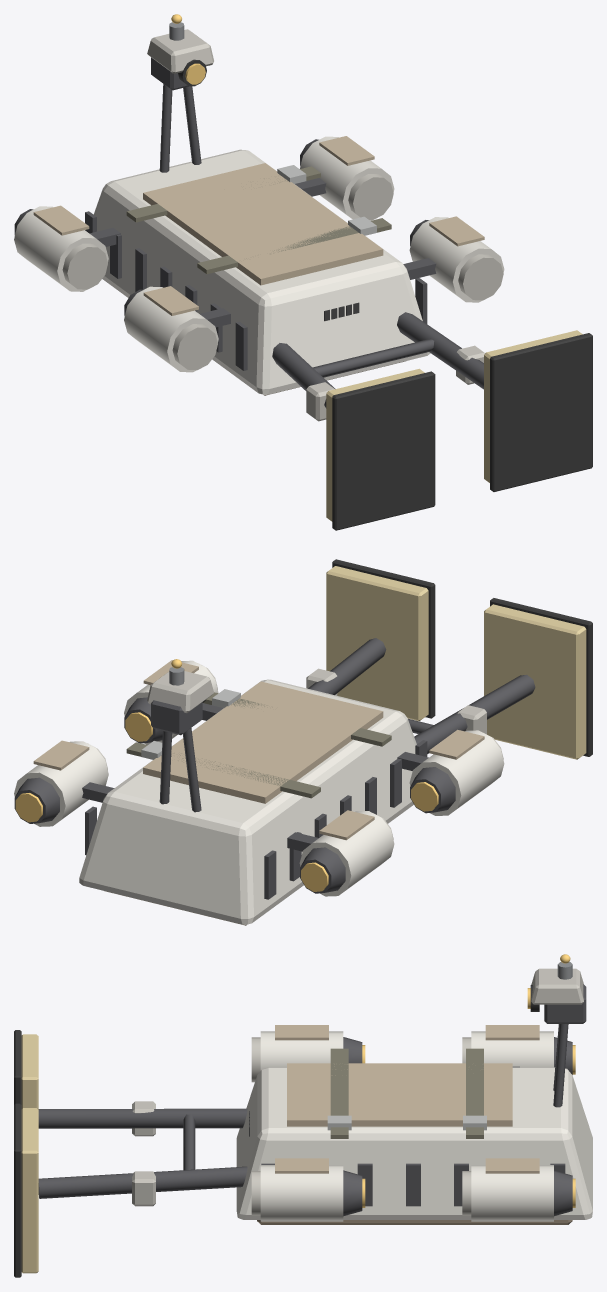
File: drover.glb
The picture shows the model from 3 angles, top to bottom: view 1: azimuth 30°, elevation 25°; view 2: azimuth 150°, elevation 25°; view 3: azimuth 270°, elevation 25°; orthographic projection. The views are drawn at different scales.
Visible parts, largest first — view 1: ring_enamel, ring_dust, ring_rubber.001, ring_rubber, ring_enamel.004, ring_enamel.003, ring_enamel.001, ring_enamel.002, ring_graphite.014, ring_enamel_dk.002, ring_enamel_dk.003, ring_enamel_dk.006 (+15 smaller); view 2: ring_enamel, ring_dust, ring_plough.001, ring_plough, ring_enamel.004, ring_enamel.003, ring_enamel.002, ring_graphite.015, ring_rubber, ring_enamel_dk.002, ring_rubber.001, ring_graphite.014 (+20 smaller); view 3: ring_enamel, ring_dust, ring_enamel.001, ring_enamel.002, ring_graphite.015, ring_graphite.014, ring_plough, ring_enamel.004, ring_enamel.003, ring_enamel_dk.002, ring_strap.001, ring_strap (+20 smaller).
Boxes of the visible parts, x1,y1,x2,y2 form: ring_enamel: [93, 149, 430, 394]; ring_dust: [143, 163, 383, 285]; ring_rubber.001: [332, 371, 435, 530]; ring_rubber: [490, 333, 592, 491]; ring_enamel.004: [14, 206, 108, 291]; ring_enamel.003: [124, 286, 218, 372]; ring_enamel.001: [409, 217, 504, 302]; ring_enamel.002: [300, 136, 394, 220]; ring_graphite.014: [397, 312, 483, 389]; ring_enamel_dk.002: [147, 29, 213, 73]; ring_enamel_dk.003: [458, 254, 503, 300]; ring_enamel_dk.006: [62, 243, 107, 289]; ring_enamel: [79, 679, 416, 924]; ring_dust: [143, 681, 383, 803]; ring_plough.001: [484, 604, 586, 759]; ring_plough: [326, 566, 428, 721]; ring_enamel.004: [299, 811, 394, 896]; ring_enamel.003: [409, 730, 504, 815]; ring_enamel.002: [14, 741, 108, 826]; ring_graphite.015: [414, 674, 535, 753]; ring_rubber: [332, 559, 435, 718]; ring_enamel_dk.002: [147, 671, 213, 712]; ring_rubber.001: [490, 598, 592, 756]; ring_graphite.014: [308, 638, 386, 695]; ring_enamel: [236, 1067, 592, 1219]; ring_dust: [287, 1063, 512, 1126]; ring_enamel.001: [260, 1165, 343, 1221]; ring_enamel.002: [471, 1165, 553, 1221]; ring_graphite.015: [38, 1108, 247, 1128]; ring_graphite.014: [38, 1166, 247, 1198]; ring_plough: [21, 1108, 38, 1273]; ring_enamel.004: [471, 1031, 553, 1067]; ring_enamel.003: [260, 1031, 343, 1070]; ring_enamel_dk.002: [531, 968, 583, 1004]; ring_strap.001: [330, 1048, 348, 1138]; ring_strap: [466, 1048, 483, 1138].
Size of the model in its own units: 2.48 by 1.93 by 3.85.
